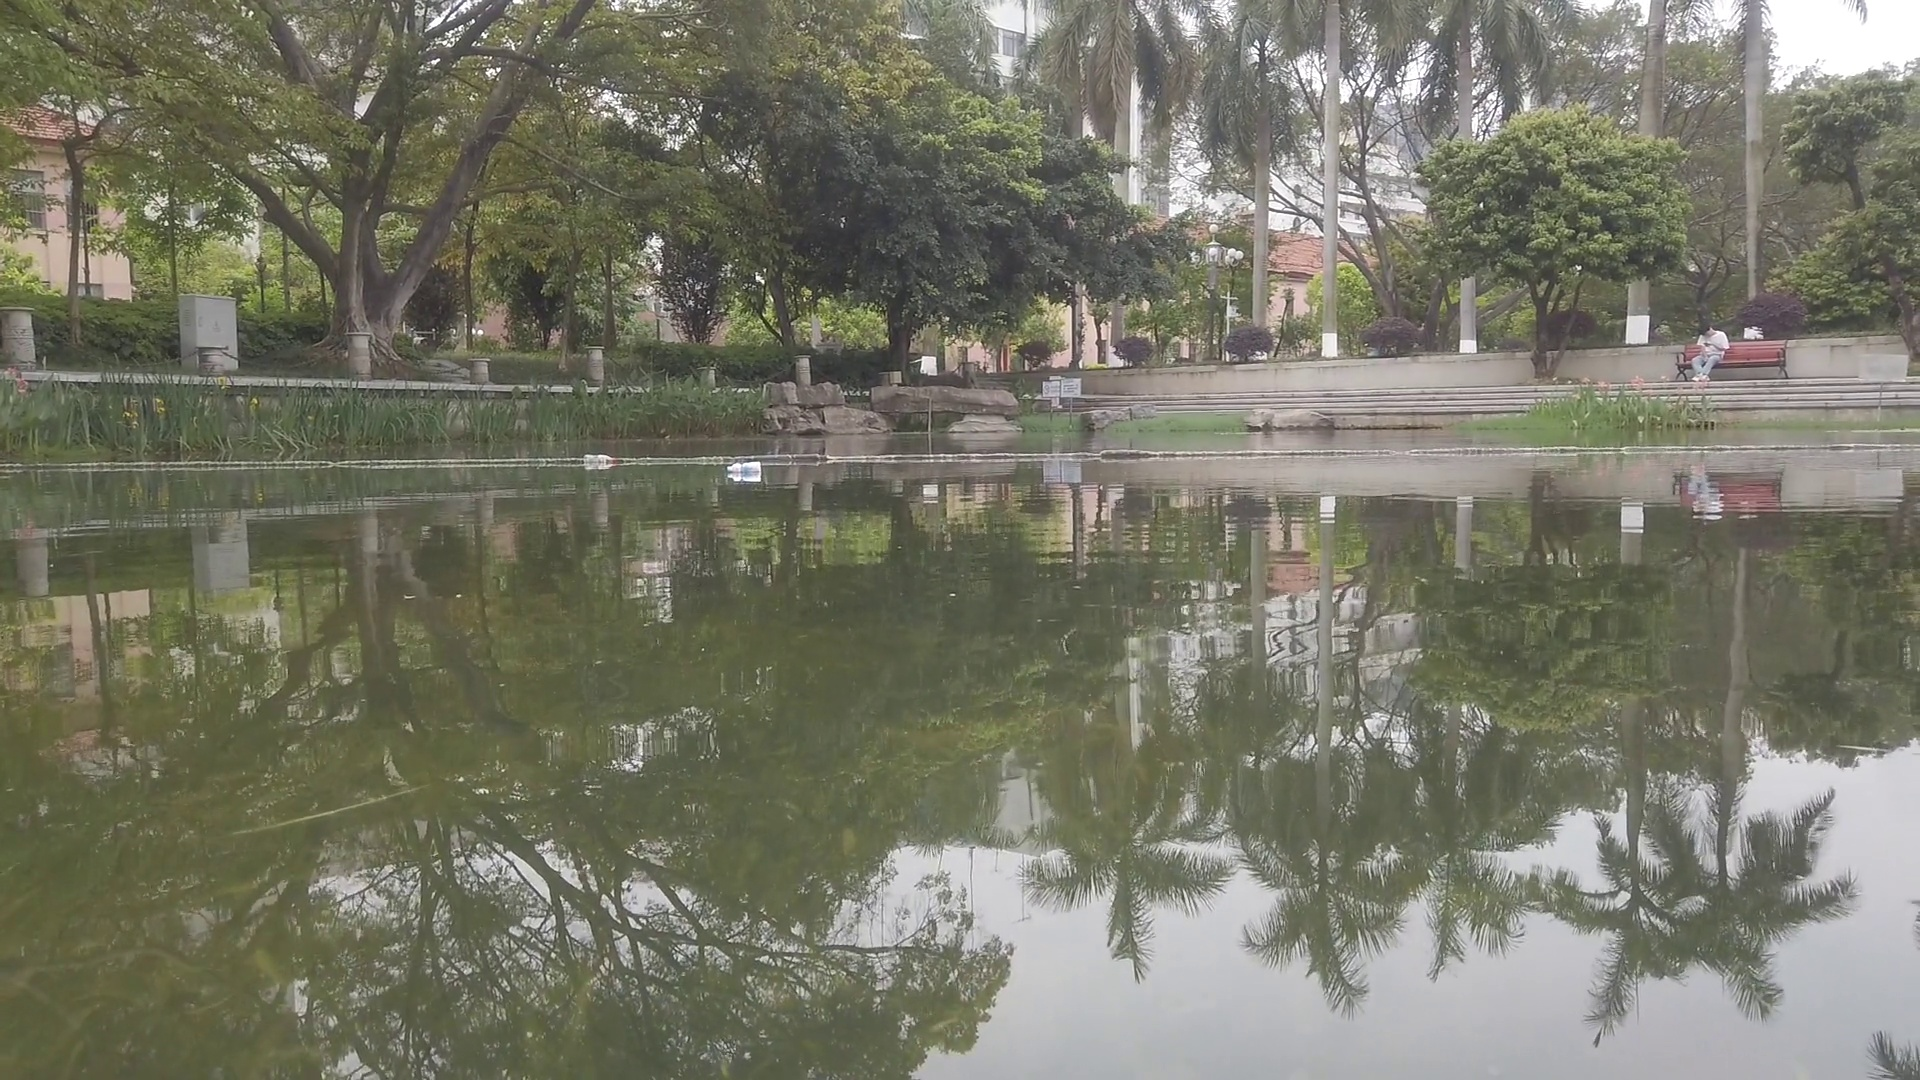bottle: (728, 460, 764, 475), (582, 454, 618, 465)
